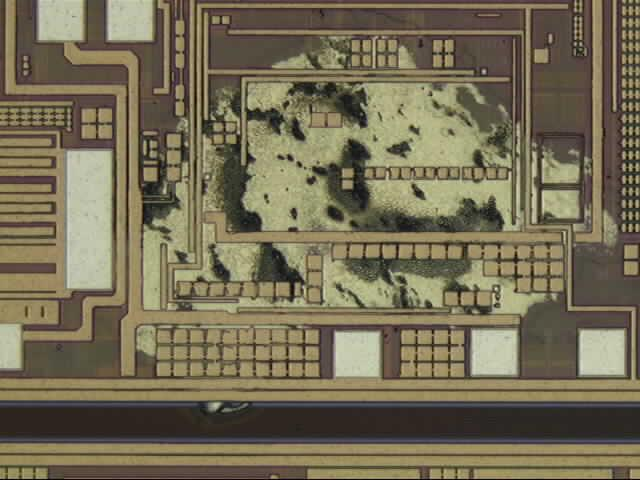BLOCK ETCH: (115, 5, 628, 424)
